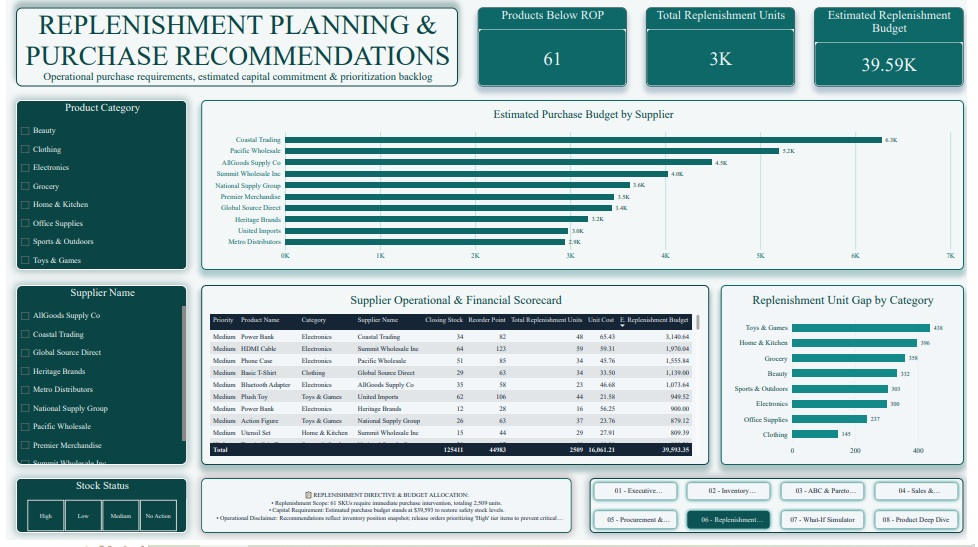

What the dashboard file says about the page in this screenshot:
{"tool":"powerbi","page":{"name":"06 - Replenishment Planning","canvas":[1920,1080],"ordinal":5},"visuals":[{"type":"cardVisual","title":"Products Below ROP","fields":{"Data":["_Measure.Products Below ROP"]},"box":[942.5,15,297.5,157.5],"z":0},{"type":"cardVisual","title":"Estimated Replenishment Budget","fields":{"Data":["_Measure.Estimated Replenishment Budget"]},"box":[1615,15,297.5,157.5],"z":1000},{"type":"textbox","title":"REPLENISHMENT PLANNING & PURCHASE RECOMMENDATIONS","box":[20,15,882.5,157.5],"z":2000},{"type":"slicer","title":"Product Category","fields":{"Values":["DimCategory.Category"]},"box":[20,200,342,340],"z":3000},{"type":"slicer","title":"Supplier Name","fields":{"Values":["DimSupplier.Supplier Name"]},"box":[20,570,342,360],"z":4000},{"type":"slicer","title":"Stock Status","fields":{"Values":["FactInventory.Replenishment Priority"]},"box":[20,955.6,342.2,110],"z":5000},{"type":"cardVisual","fields":{"Data":["_Measure.Replenishment Insight Text III"]},"box":[390,956,740,110],"z":6000},{"type":"clusteredBarChart","title":"Replenishment Unit Gap by Category","fields":{"Category":["DimCategory.Category"],"Y":["_Measure.Total Replenishment Units"]},"box":[1428,570,486,360],"z":7000},{"type":"cardVisual","title":"Total Replenishment Units","fields":{"Data":["_Measure.Total Replenishment Units"]},"box":[1278.8,15,297.5,157.5],"z":8000},{"type":"tableEx","title":"Supplier Operational & Financial Scorecard","fields":{"Values":["FactInventory.Replenishment Priority","FactInventory.Product Name","FactInventory.Category","DimSupplier.Supplier Name","Sum(FactInventory.Closing Stock)","Sum(FactInventory.Reorder Point)","_Measure.Total Replenishment Units","Sum(FactInventory.Unit Cost)","_Measure.Estimated Replenishment Budget"]},"box":[390,570,1015,360],"z":9000},{"type":"clusteredBarChart","title":"Estimated Purchase Budget by Supplier","fields":{"Category":["DimSupplier.Supplier Name"],"Y":["_Measure.Estimated Replenishment Budget"]},"box":[390,200,1524,340],"z":10000},{"type":"pageNavigator","box":[1166,956,747,110],"z":11000}]}

Visuals, with their boxes in screenshot pixels (x1, y1, x2, y2), scaled from the page's 1920x1080 canvas onto the 978x547 screenshot:
"Products Below ROP" cardVisual: {"left": 480, "top": 8, "right": 632, "bottom": 87}
"Estimated Replenishment Budget" cardVisual: {"left": 823, "top": 8, "right": 974, "bottom": 87}
"REPLENISHMENT PLANNING & PURCHASE RECOMMENDATIONS" textbox: {"left": 10, "top": 8, "right": 460, "bottom": 87}
"Product Category" slicer: {"left": 10, "top": 101, "right": 184, "bottom": 274}
"Supplier Name" slicer: {"left": 10, "top": 289, "right": 184, "bottom": 471}
"Stock Status" slicer: {"left": 10, "top": 484, "right": 184, "bottom": 540}
cardVisual - _Measure.Replenishment Insight Text III: {"left": 199, "top": 484, "right": 576, "bottom": 540}
"Replenishment Unit Gap by Category" clusteredBarChart: {"left": 727, "top": 289, "right": 975, "bottom": 471}
"Total Replenishment Units" cardVisual: {"left": 651, "top": 8, "right": 803, "bottom": 87}
"Supplier Operational & Financial Scorecard" tableEx: {"left": 199, "top": 289, "right": 716, "bottom": 471}
"Estimated Purchase Budget by Supplier" clusteredBarChart: {"left": 199, "top": 101, "right": 975, "bottom": 274}
pageNavigator: {"left": 594, "top": 484, "right": 974, "bottom": 540}
